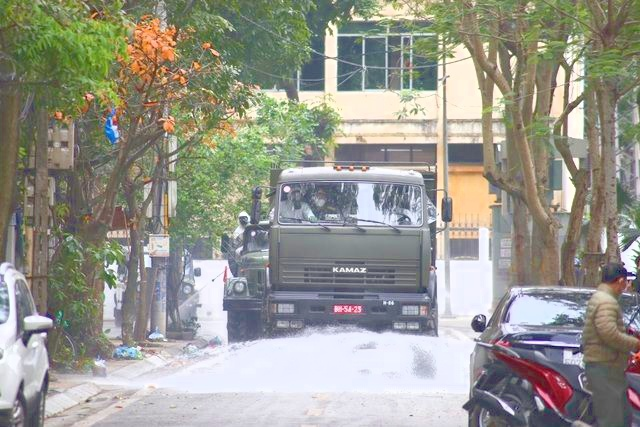plate: (560, 345, 592, 369), (331, 301, 363, 314)
